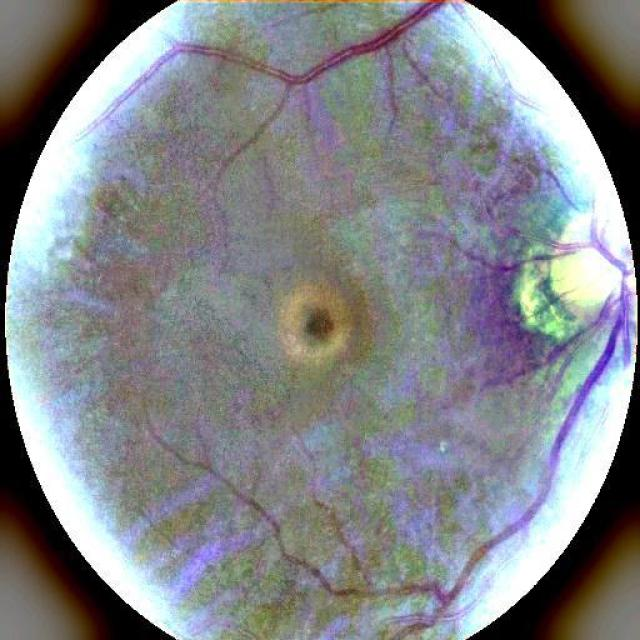Macula: (284, 293, 354, 363)
Nerves: (150, 212, 630, 638), (89, 0, 445, 131)
Optic Disk: (507, 161, 639, 382)
